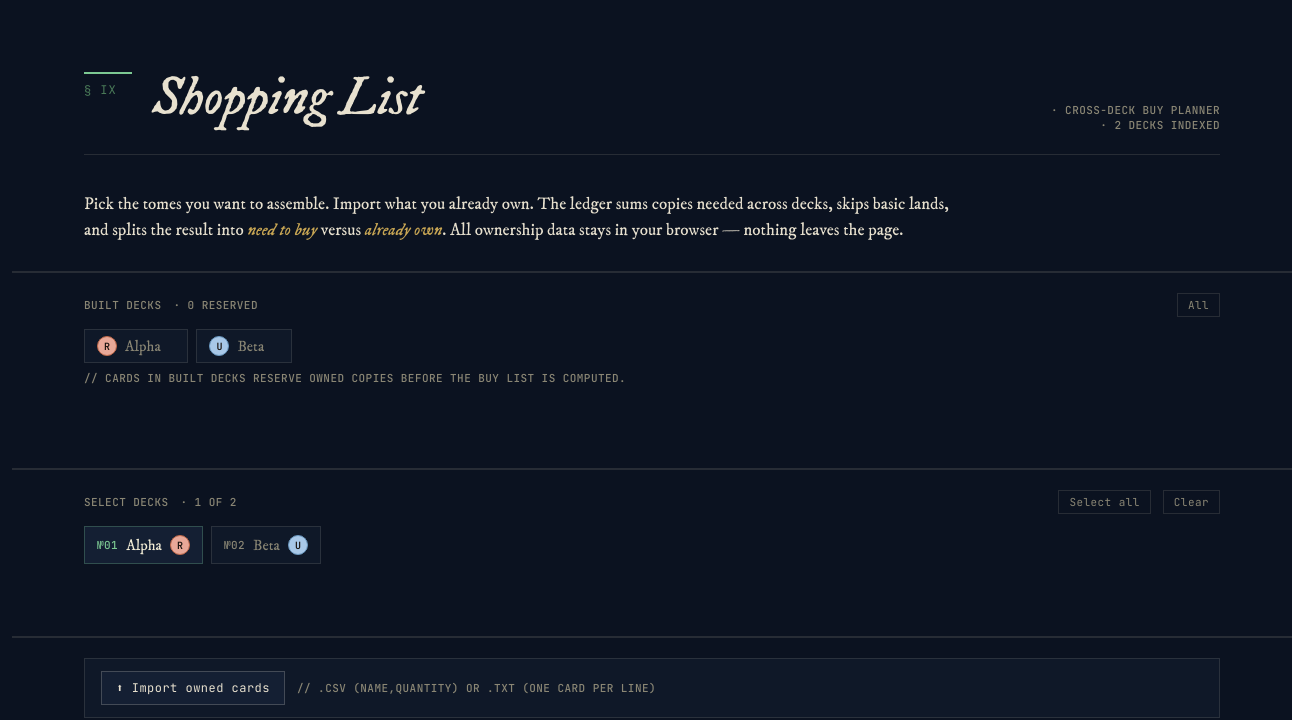
Test case: Shopping organism › toggles a deck chip selection via aria-pressed
The width and height of the screenshot is (1292, 720).
Click the button with aria-label "Add Beta": [266, 546] box [211,526,321,564]
(page scrolled)
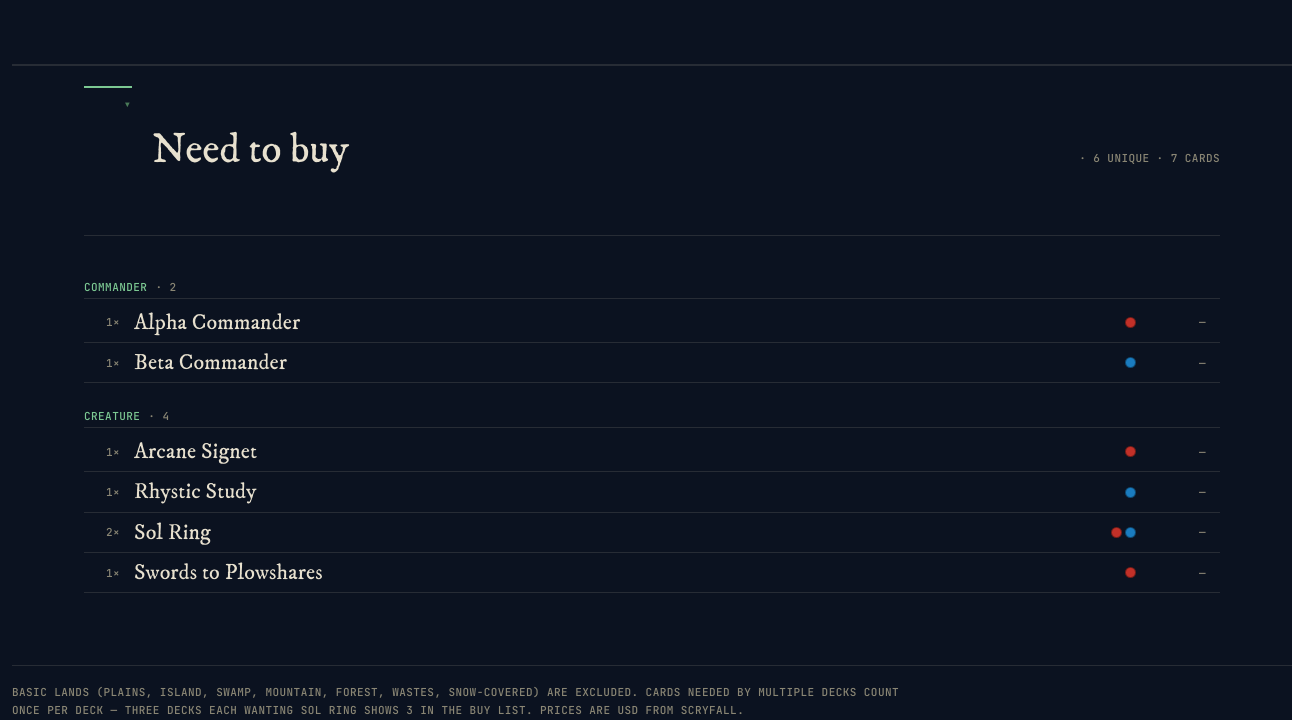
Result: the text "Rhystic Study" is shown at [134,478,257,506]
